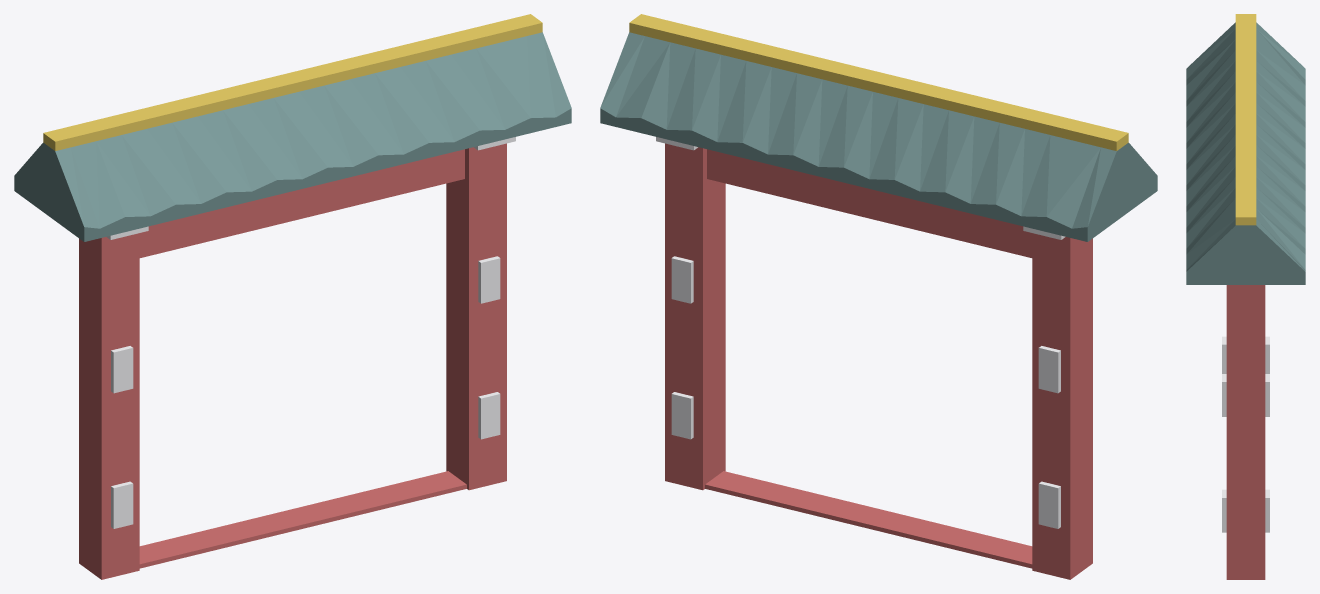
The model's file is Wall_5.fbx.
3 renders of one model, left to right at view 1: azimuth 30°, elevation 25°; view 2: azimuth 150°, elevation 25°; view 3: azimuth 270°, elevation 25°, orthographic. The views are drawn at different scales.
Parts seen in each view (by area): view 1: Asian_Prop_Building_Fence_Wall_Gateway_04.003, Asian_Prop_Building_Fence_Wall_Gateway_04.001, Asian_Prop_Building_Fence_Wall_Gateway_04.002, Asian_Prop_Building_Fence_Wall_Gateway_04; view 2: Asian_Prop_Building_Fence_Wall_Gateway_04.003, Asian_Prop_Building_Fence_Wall_Gateway_04.001, Asian_Prop_Building_Fence_Wall_Gateway_04.002, Asian_Prop_Building_Fence_Wall_Gateway_04; view 3: Asian_Prop_Building_Fence_Wall_Gateway_04.001, Asian_Prop_Building_Fence_Wall_Gateway_04.003, Asian_Prop_Building_Fence_Wall_Gateway_04.002, Asian_Prop_Building_Fence_Wall_Gateway_04.
Boxes of the visible parts, x1,y1,x2,y2 form: Asian_Prop_Building_Fence_Wall_Gateway_04.003: (79, 143, 506, 579); Asian_Prop_Building_Fence_Wall_Gateway_04.001: (14, 32, 571, 241); Asian_Prop_Building_Fence_Wall_Gateway_04.002: (43, 14, 542, 150); Asian_Prop_Building_Fence_Wall_Gateway_04: (106, 137, 515, 528); Asian_Prop_Building_Fence_Wall_Gateway_04.003: (665, 143, 1092, 579); Asian_Prop_Building_Fence_Wall_Gateway_04.001: (600, 32, 1157, 241); Asian_Prop_Building_Fence_Wall_Gateway_04.002: (629, 14, 1128, 150); Asian_Prop_Building_Fence_Wall_Gateway_04: (656, 137, 1065, 528); Asian_Prop_Building_Fence_Wall_Gateway_04.001: (1186, 22, 1305, 284); Asian_Prop_Building_Fence_Wall_Gateway_04.003: (1226, 285, 1265, 579); Asian_Prop_Building_Fence_Wall_Gateway_04.002: (1235, 14, 1256, 225); Asian_Prop_Building_Fence_Wall_Gateway_04: (1222, 336, 1269, 532).
Size of the model in its own units: 622 by 541 by 155.
